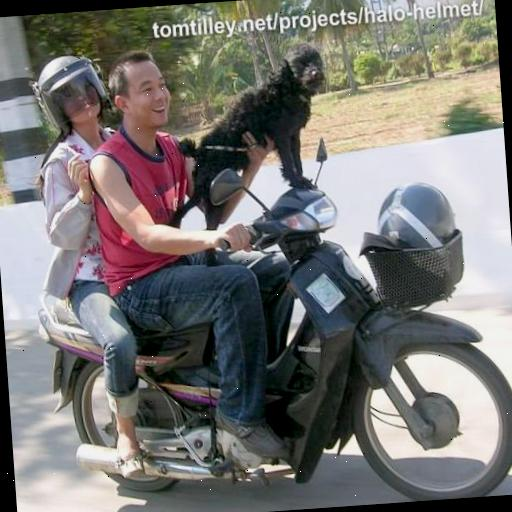no helmet: (84, 4, 508, 506)
